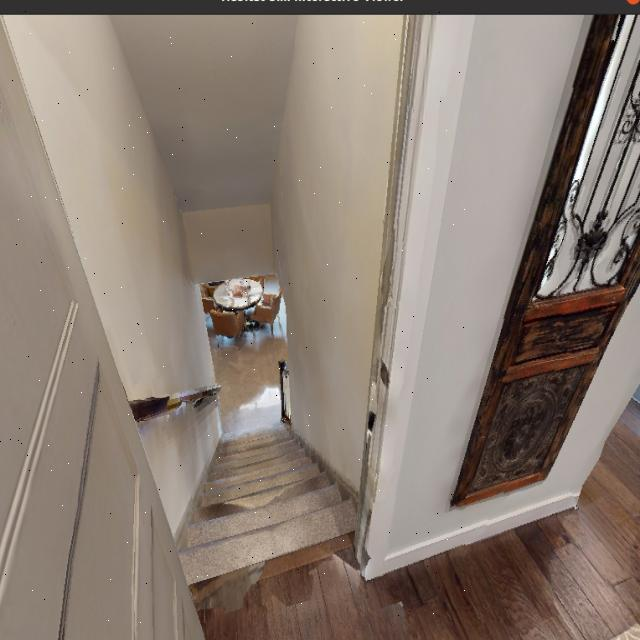door-frame: (0, 0, 465, 625)
stairs: (118, 293, 388, 604)
